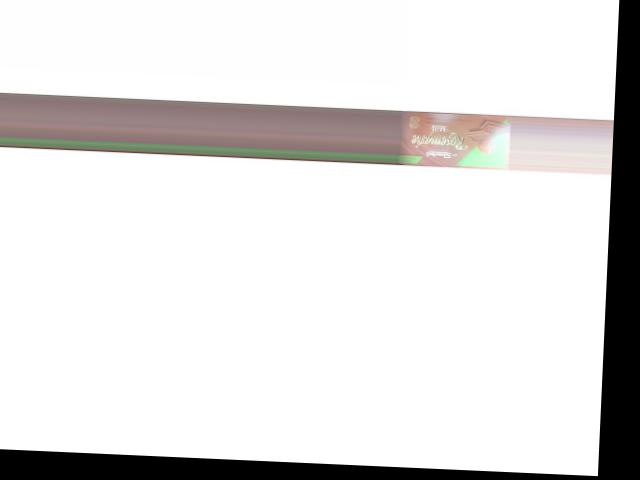chocolate: (397, 111, 509, 168)
